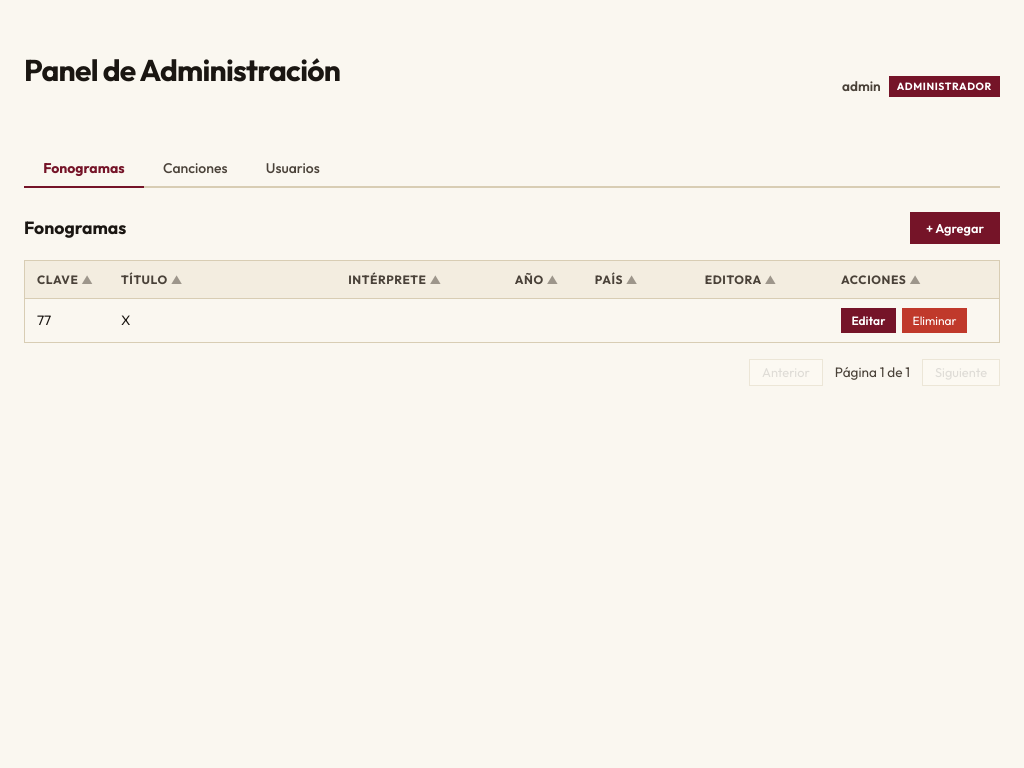
confirmDeleteFono opens confirm modal with the right message
This screenshot has width=1024, height=768.
What coordinates should you click on to do the following:
click the button with class "btn-danger"
I would click on:
 (935, 320)
Its box is [902, 308, 967, 333].
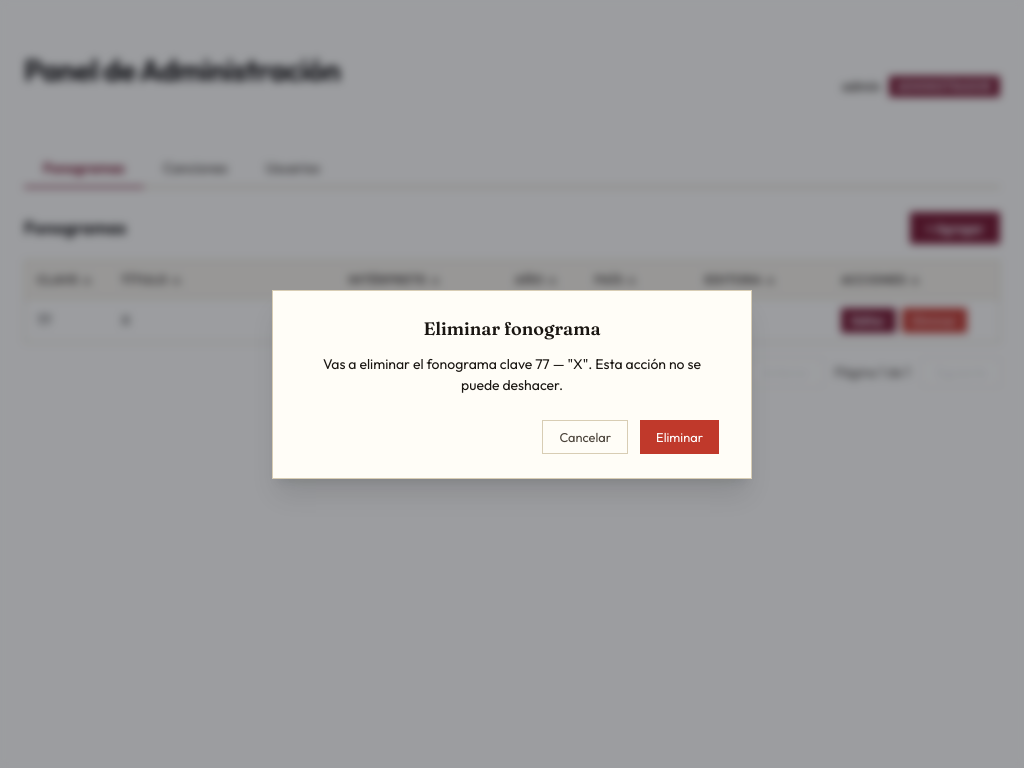
Expected: the dialog with class "admin-confirm" shows "clave 77", [323, 354, 701, 394]
Expected: the dialog with class "admin-confirm" shows "\"X\"", [323, 354, 701, 394]
Expected: the heading with class "admin-confirm-title" reads "Eliminar fonograma", [423, 316, 600, 340]
